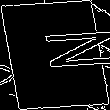N_W: (9, 33, 101, 77)
